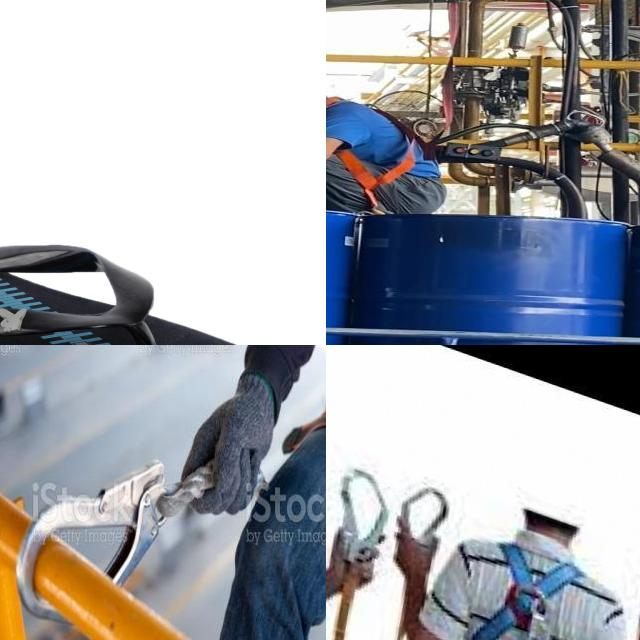Harness: (326, 94, 422, 211), (471, 543, 583, 640)
Sandals: (0, 234, 284, 345)
